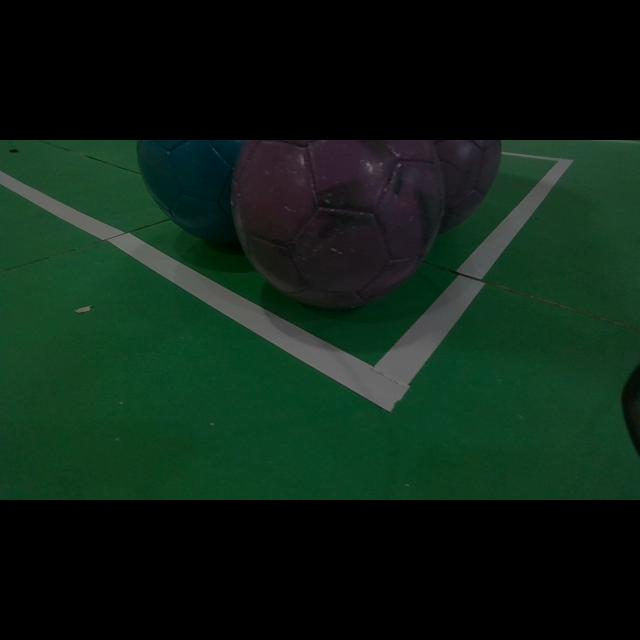B: (138, 140, 244, 243)
P: (231, 140, 445, 308), (434, 140, 501, 233)
